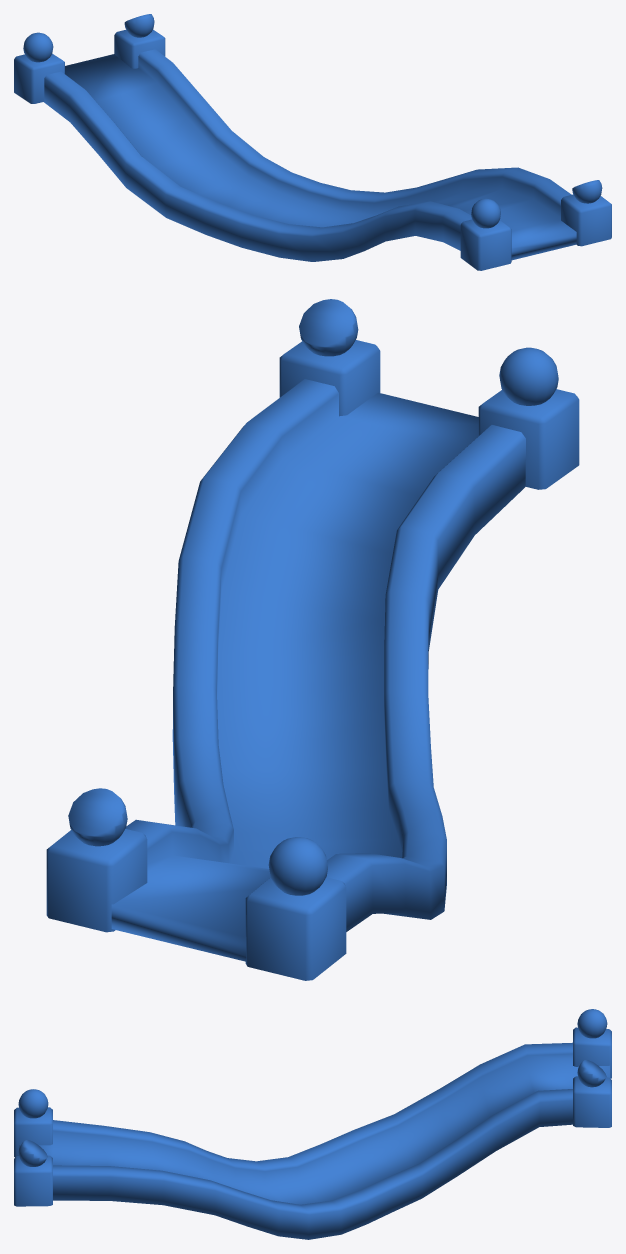
The model's file is SM_bridge_bot_02.fbx.
3 views of the same model, one above another, from view 1: azimuth 30°, elevation 25°; view 2: azimuth 150°, elevation 25°; view 3: azimuth 270°, elevation 25° (orthographic). The views are drawn at different scales.
Visible parts, largest first — view 1: bridge_top_02; view 2: bridge_top_02; view 3: bridge_top_02.
Boxes of the visible parts, left/top/right/bottom form: bridge_top_02: left=14, top=14, right=611, bottom=270; bridge_top_02: left=46, top=299, right=579, bottom=980; bridge_top_02: left=14, top=1009, right=611, bottom=1239.
Bounding box in the file's own units: 3458 × 1485 × 6045.
